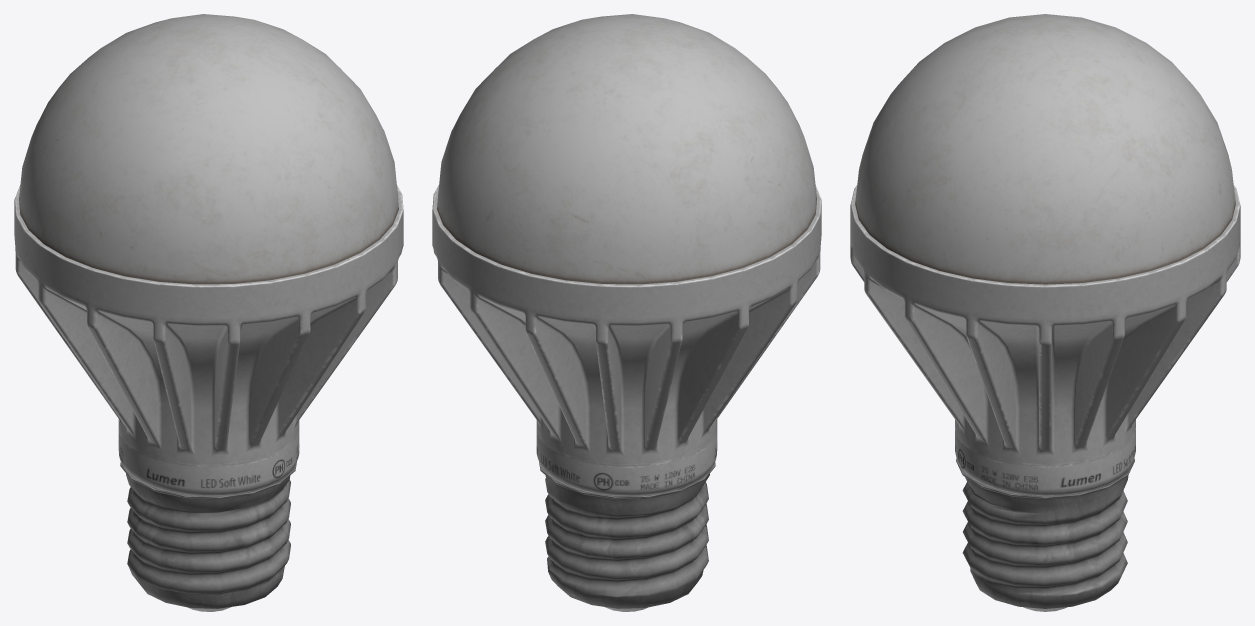
Rendered from lightbulb_led_1k.gltf.
3 renders of one model, left to right at view 1: azimuth 30°, elevation 25°; view 2: azimuth 150°, elevation 25°; view 3: azimuth 270°, elevation 25°, orthographic.
Parts seen in each view (by area): view 1: lightbulb_led; view 2: lightbulb_led; view 3: lightbulb_led.
Part boxes in pixels (<box>): lightbulb_led: <box>14,14,403,611</box>; lightbulb_led: <box>432,14,821,611</box>; lightbulb_led: <box>850,14,1240,611</box>.
Size of the model in its own units: 0.0614 by 0.1003 by 0.0614.
1 material, 1 textured.
